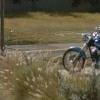Motorcycle: (57, 29, 100, 82)
